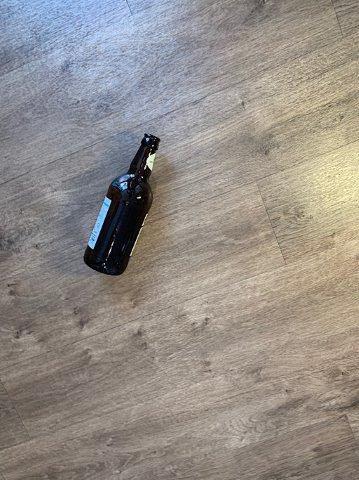botolkaca: (83, 134, 162, 275)
